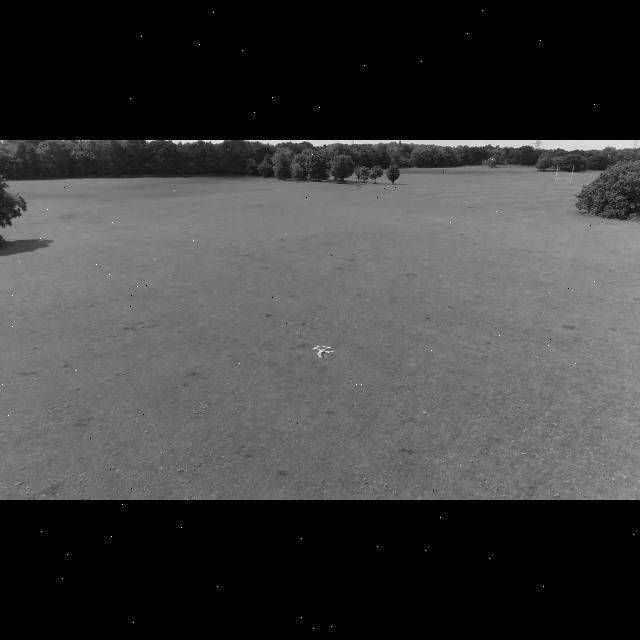Drons: (312, 344, 336, 358)
